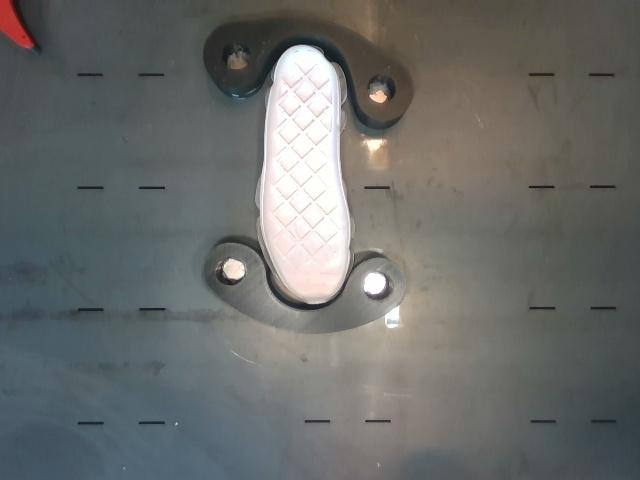shoes: (263, 45, 350, 304)
